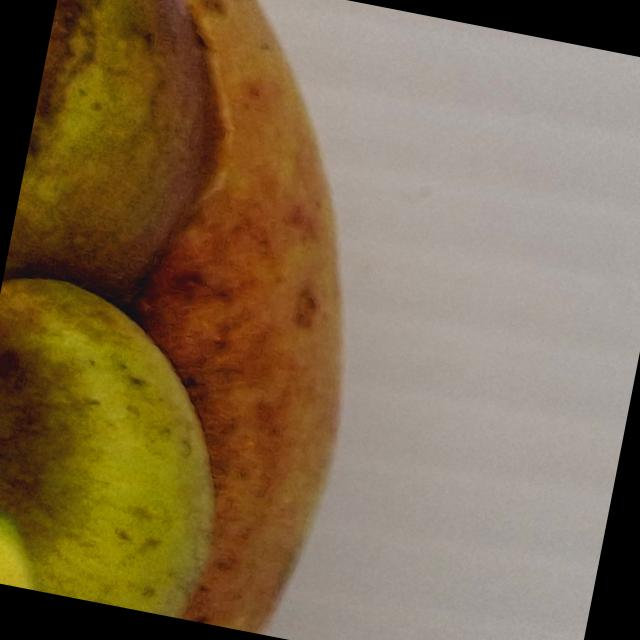mangosteen: (0, 0, 553, 640)
